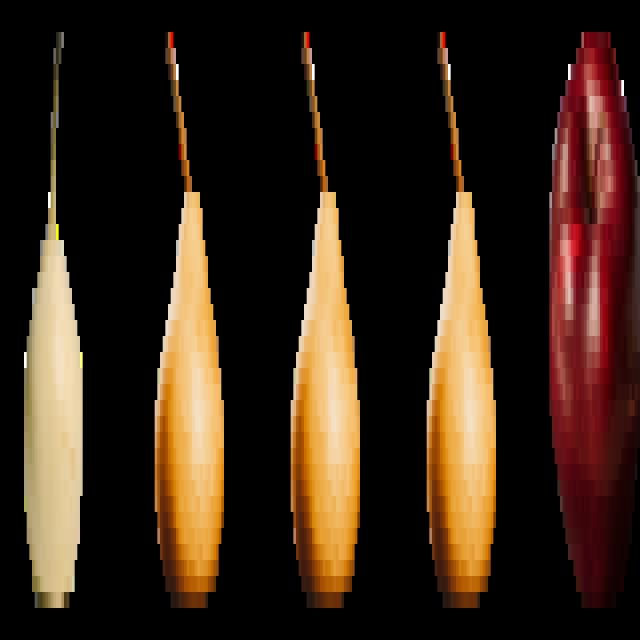apple: (541, 0, 640, 624)
pear: (416, 13, 503, 617), (150, 10, 229, 622), (284, 13, 364, 613), (19, 13, 90, 631)
